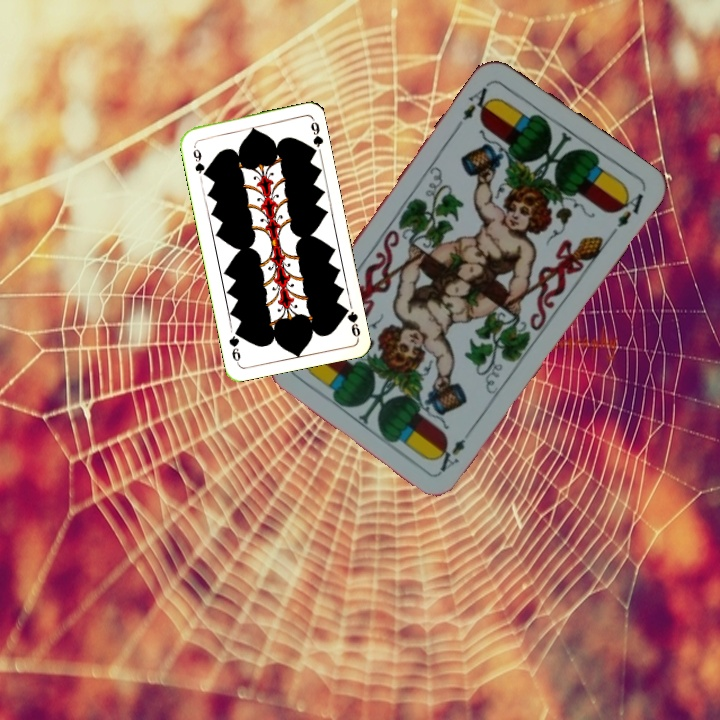EA: (432, 424, 476, 475), (458, 78, 497, 123)
G9: (339, 302, 363, 341), (189, 140, 209, 179)
